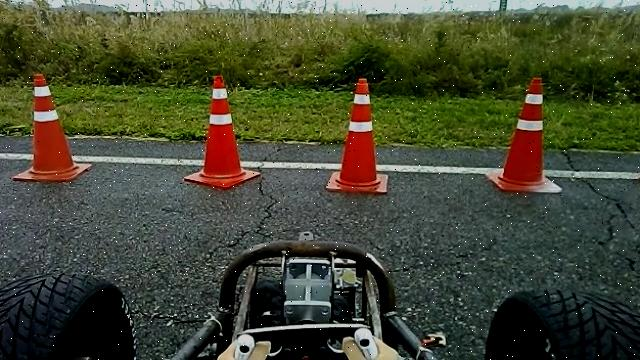red cone: (486, 76, 563, 193), (184, 74, 262, 188), (12, 73, 93, 182), (326, 77, 390, 193)
